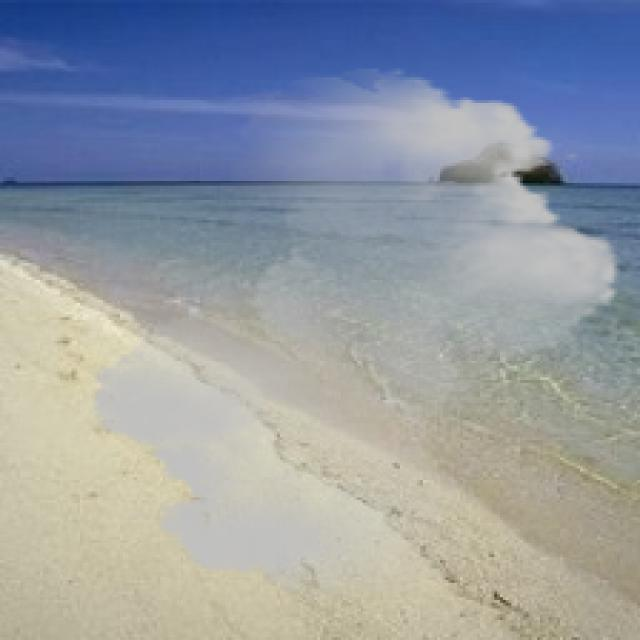smoke: (74, 68, 637, 603)
